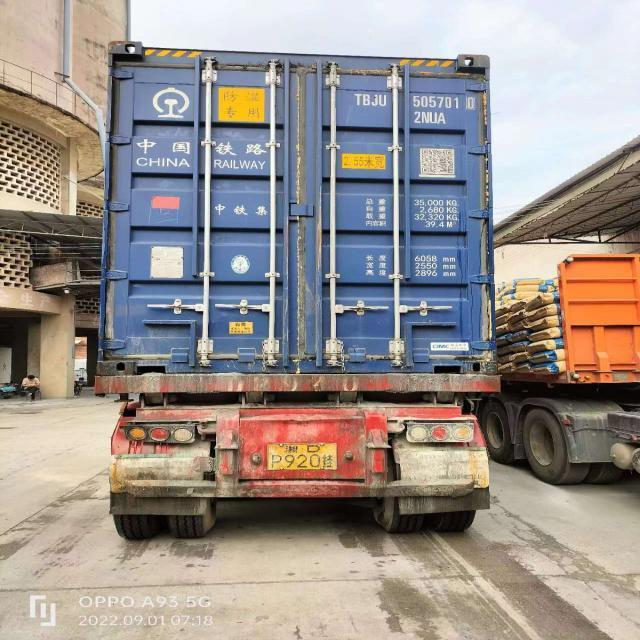ISO: (414, 110, 449, 129)
container_number: (352, 94, 476, 112)
